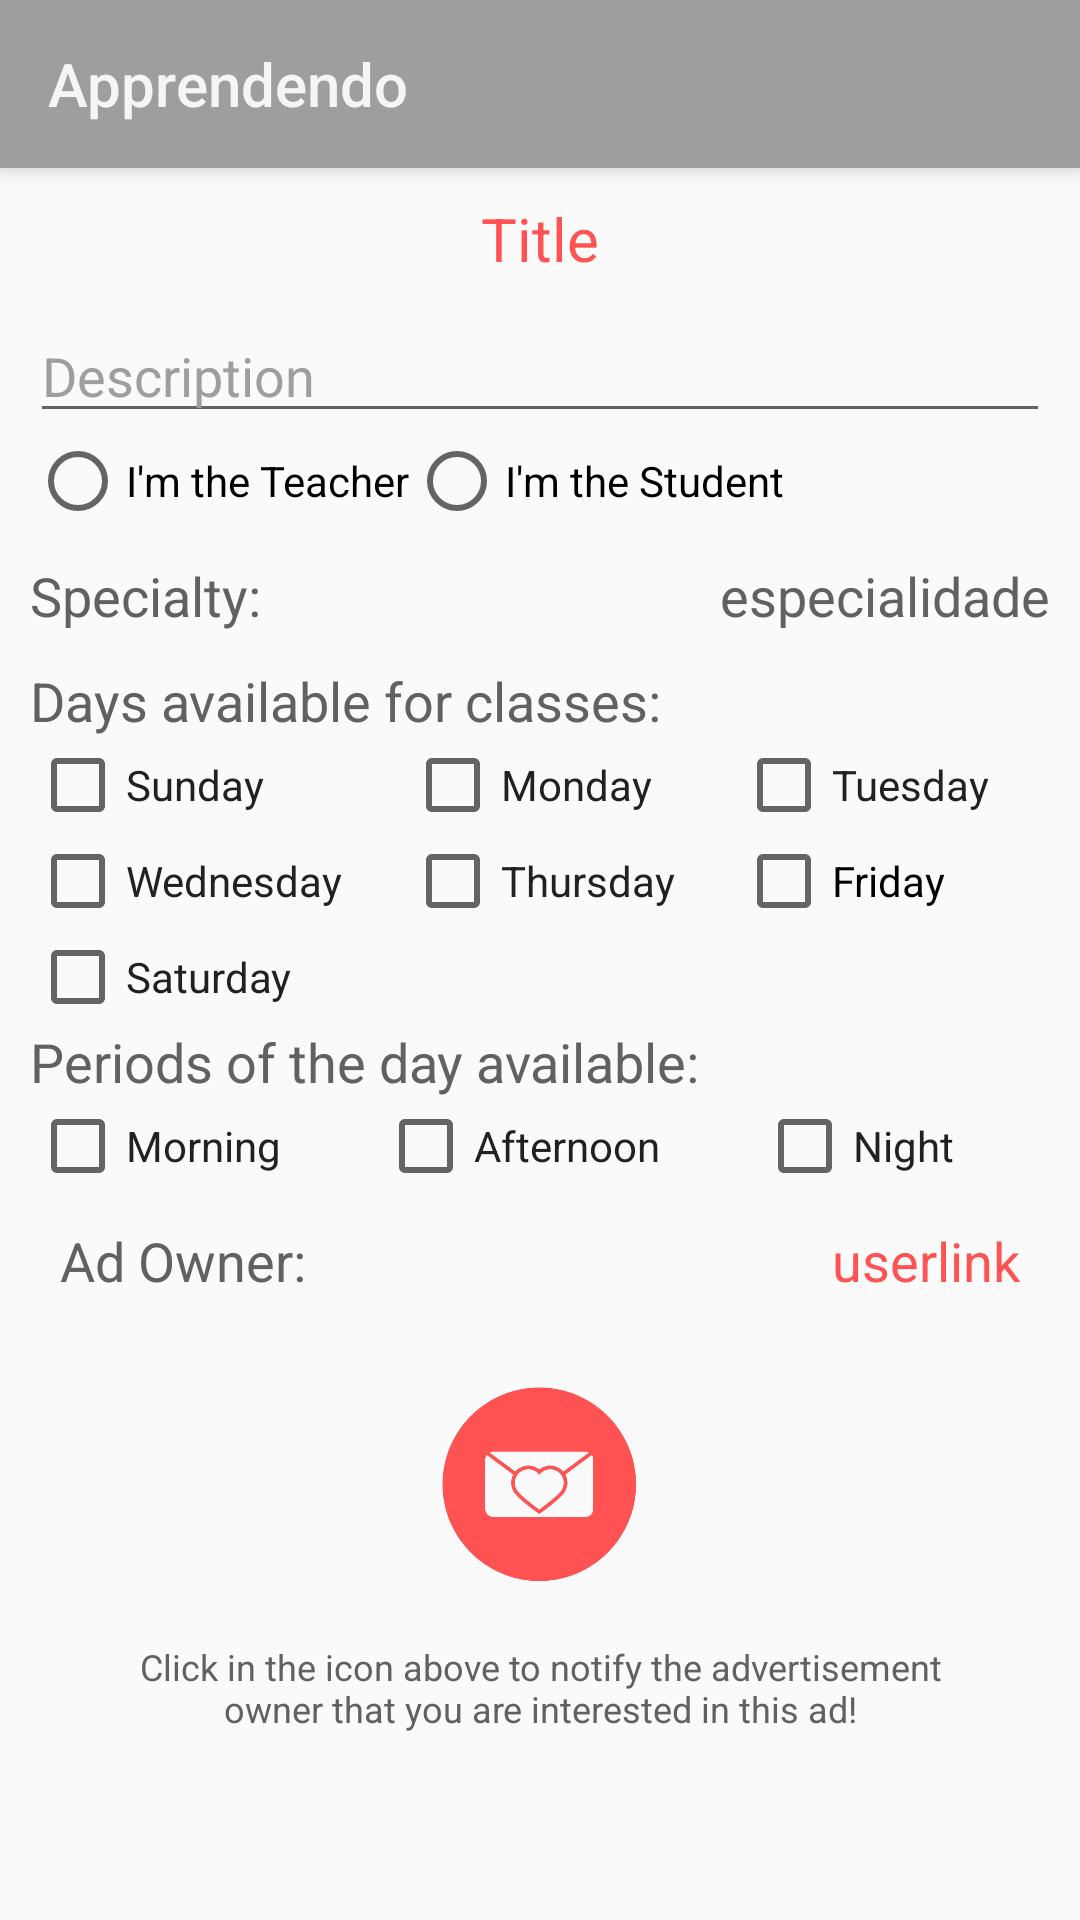

Icon click points for this 1080px×1920px phone screenshot, format (x=x, y=y):
send interest: (x=539, y=1484)
